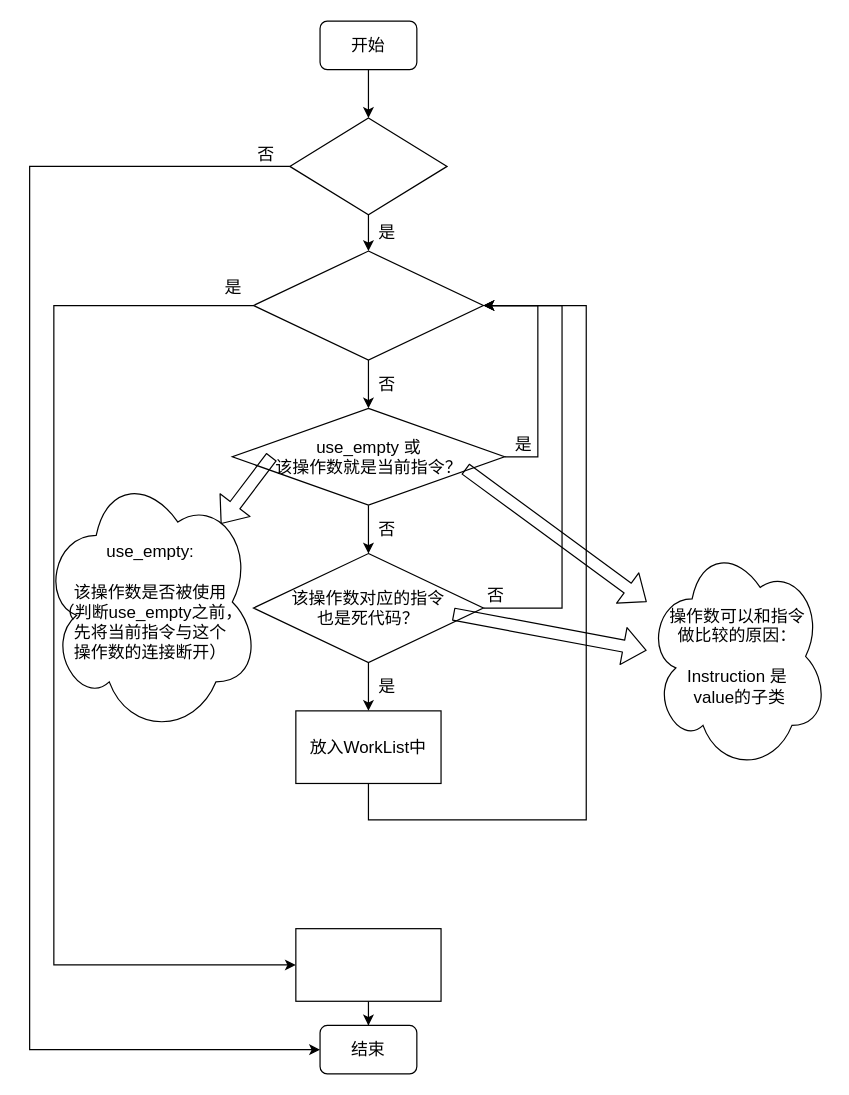
The diagram is 849 pixels wide and 1095 high, and some of its shapes have lost their labels. The centre of each missing label's shape, as x and y in pixels:
为死代码？: [368,166]
删除该指令: [368,964]
遍历完每个操作数？ 对每个操作数: [367,305]
